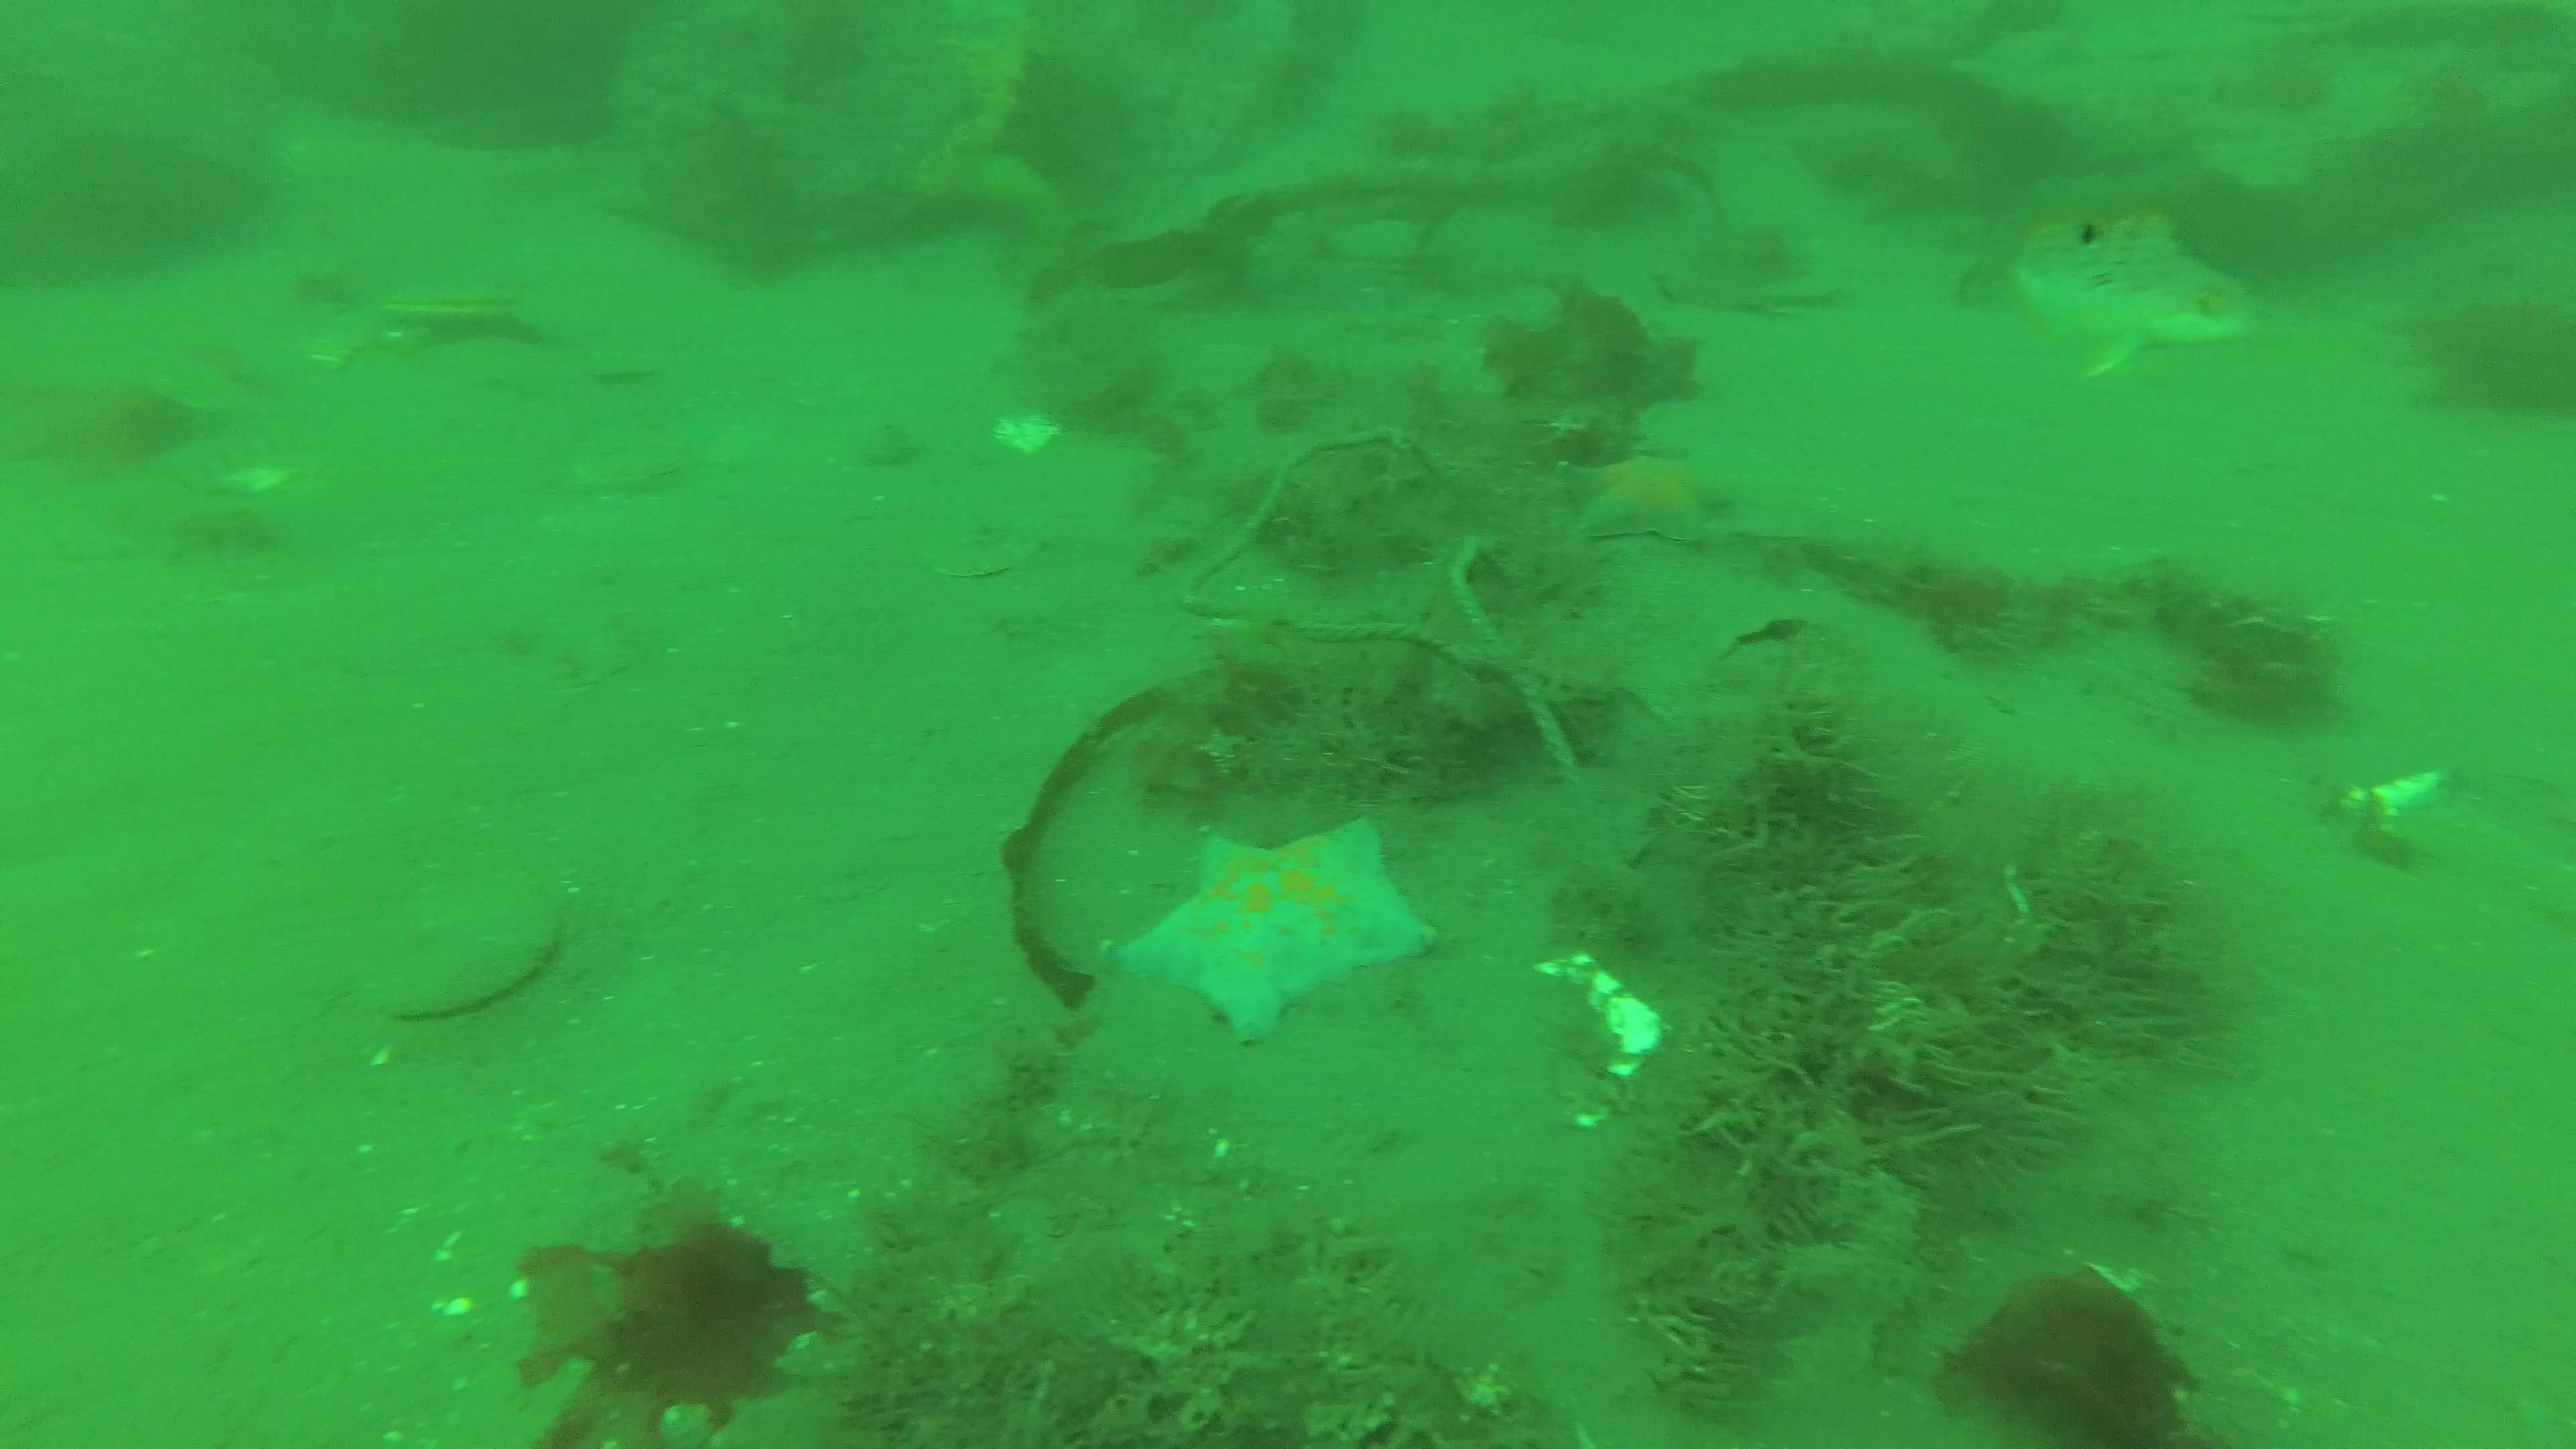starfish: (1095, 810, 1445, 1049), (1550, 448, 1743, 545)
